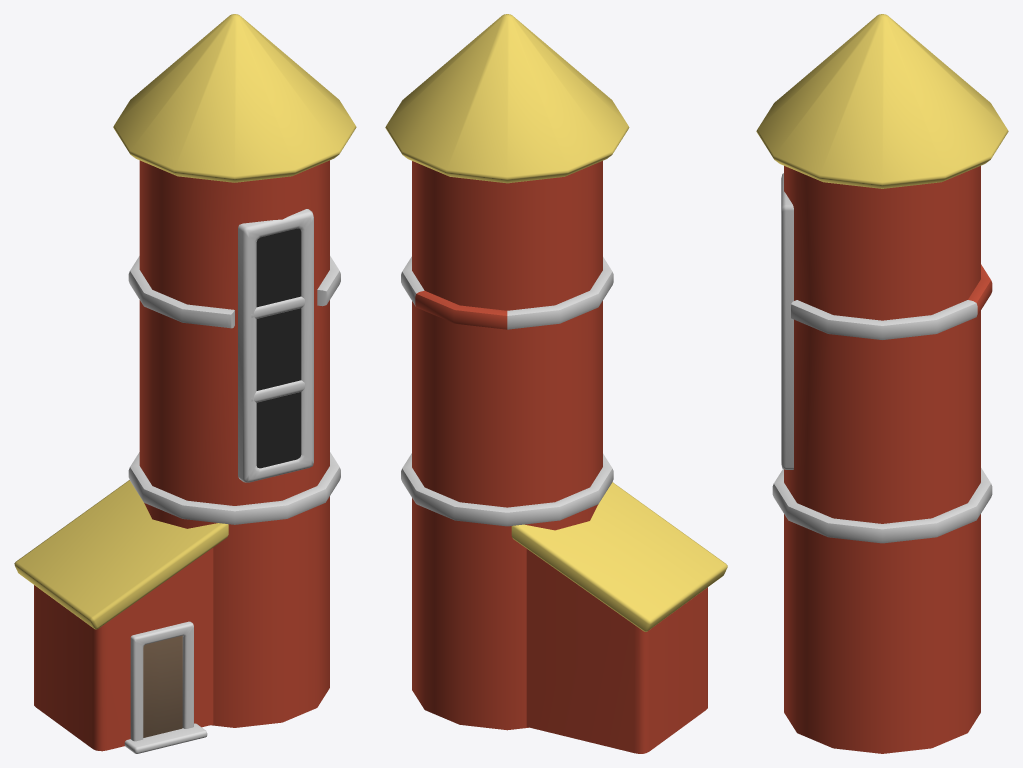
Rendered from LightHouse.fbx.
The picture shows the model from 3 angles, left to right: view 1: azimuth 30°, elevation 25°; view 2: azimuth 150°, elevation 25°; view 3: azimuth 270°, elevation 25°; orthographic projection. The views are drawn at different scales.
Visible parts, largest first — view 1: LightHouse; view 2: LightHouse; view 3: LightHouse.
Part boxes in pixels (x1,y1,x2,y2): LightHouse: (14, 14, 356, 753); LightHouse: (385, 14, 727, 753); LightHouse: (756, 14, 1008, 753).
Bounding box in the file's own units: 4567 × 10226 × 3351.
